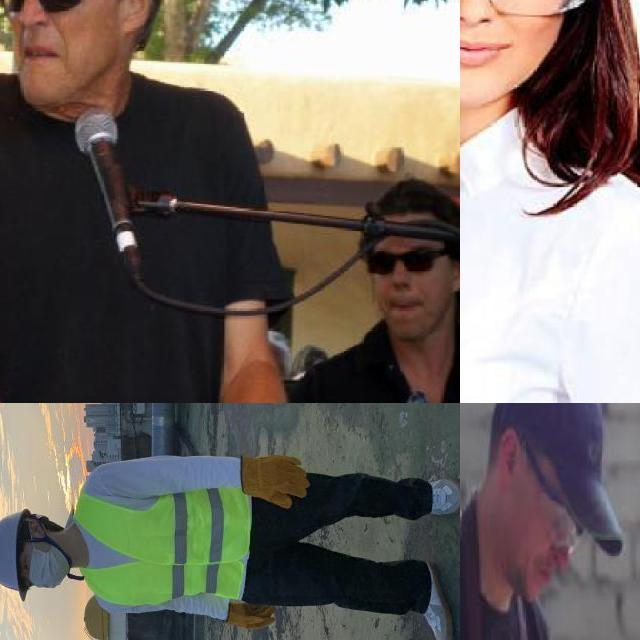No_Ear-Protection: (117, 0, 160, 45)
boots: (417, 557, 459, 640), (421, 478, 460, 518)
face_mask: (527, 471, 589, 552)
face_nomask: (460, 0, 566, 77), (0, 0, 96, 69), (522, 498, 586, 592), (367, 241, 439, 314)
glasses: (364, 245, 441, 277), (0, 0, 91, 20)
head_helmet: (0, 507, 40, 606)
head_nohelmet: (502, 403, 635, 502), (366, 177, 452, 228)
person: (0, 0, 300, 403), (0, 430, 460, 640), (460, 0, 640, 403), (460, 403, 639, 640), (301, 165, 460, 403)
vest: (74, 484, 252, 602)
